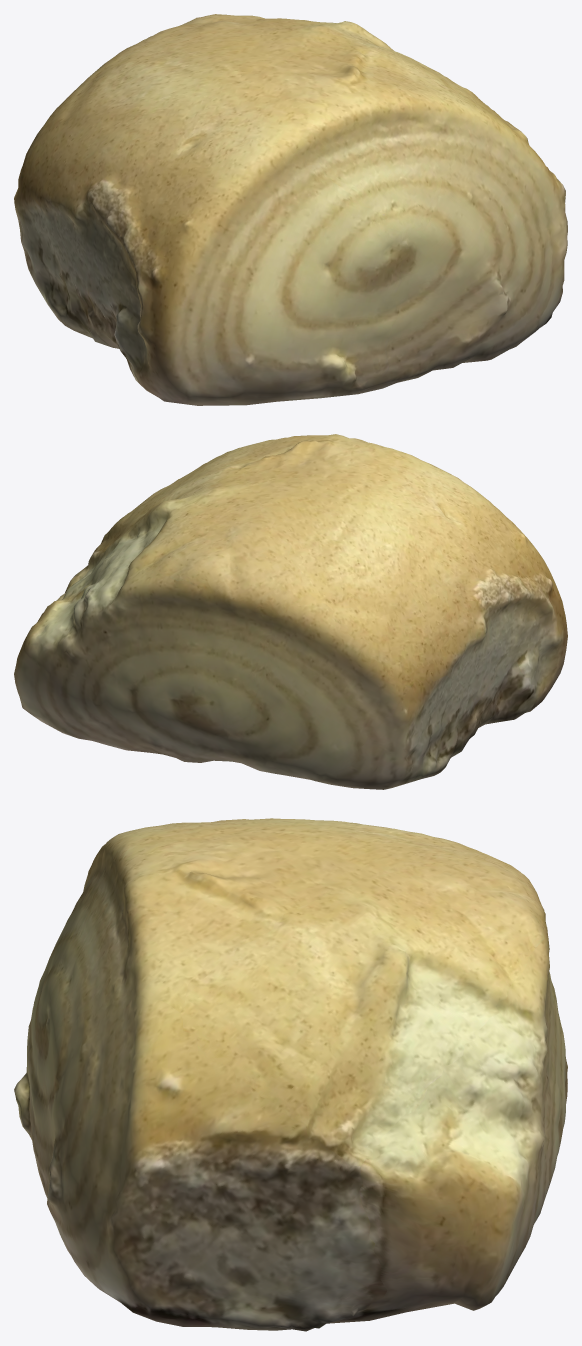
Rendered from 荞麦馒头.glb.
3 renders of one model, top to bottom at view 1: azimuth 30°, elevation 25°; view 2: azimuth 150°, elevation 25°; view 3: azimuth 270°, elevation 25°, orthographic. The views are drawn at different scales.
Visible parts, largest first — view 1: 荞麦馒头.usdz; view 2: 荞麦馒头.usdz; view 3: 荞麦馒头.usdz.
Part boxes in pixels (<box>): 荞麦馒头.usdz: <box>14,14,567,405</box>; 荞麦馒头.usdz: <box>14,434,567,789</box>; 荞麦馒头.usdz: <box>14,818,567,1331</box>.
Size of the model in its own units: 0.0969 by 0.0591 by 0.0835.
1 material, 1 textured.
